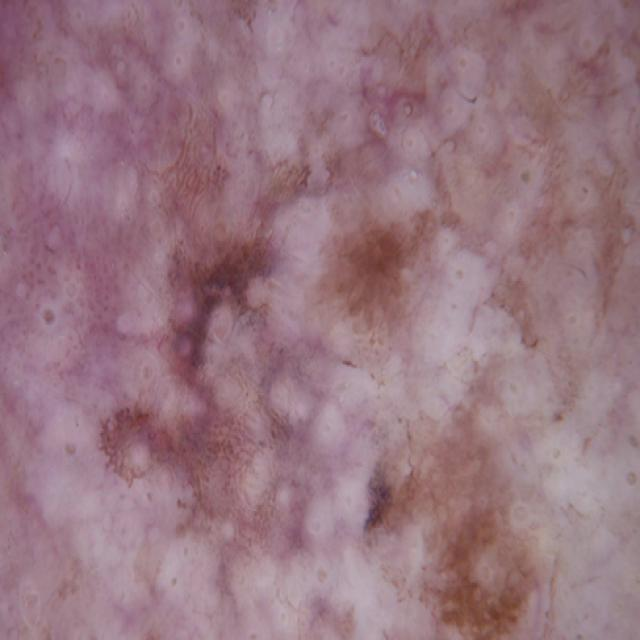Keratosis: (78, 141, 541, 633)
